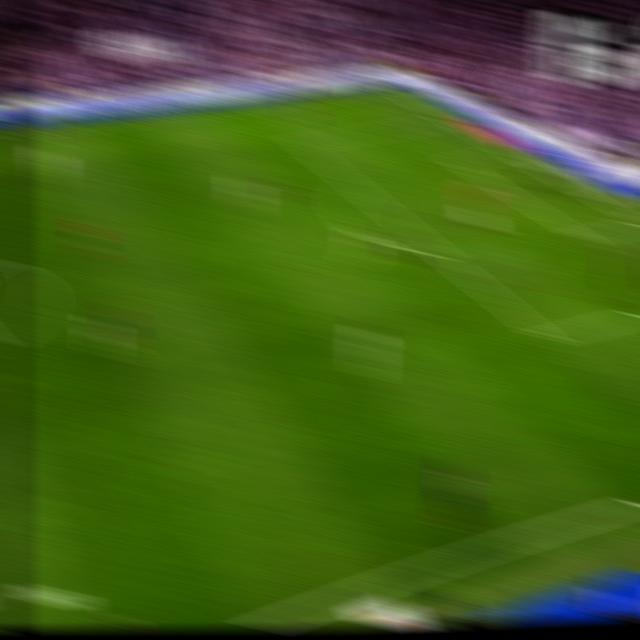bigarea_bottom_inner: (532, 323, 560, 350)
bigarea_top_inner: (292, 133, 315, 150)
bigarea_top_outter: (434, 110, 459, 126)
bottom_arc_area_intersection: (426, 242, 453, 263)
corner: (376, 80, 400, 92)
smallarea_bottom_inner: (571, 225, 597, 247)
smallarea_top_inner: (449, 154, 470, 168)
top_arc_area_intersection: (344, 176, 369, 196)
